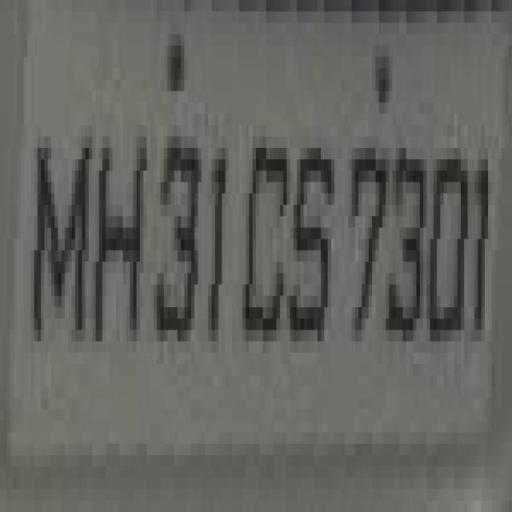number plate: (10, 12, 512, 466)
